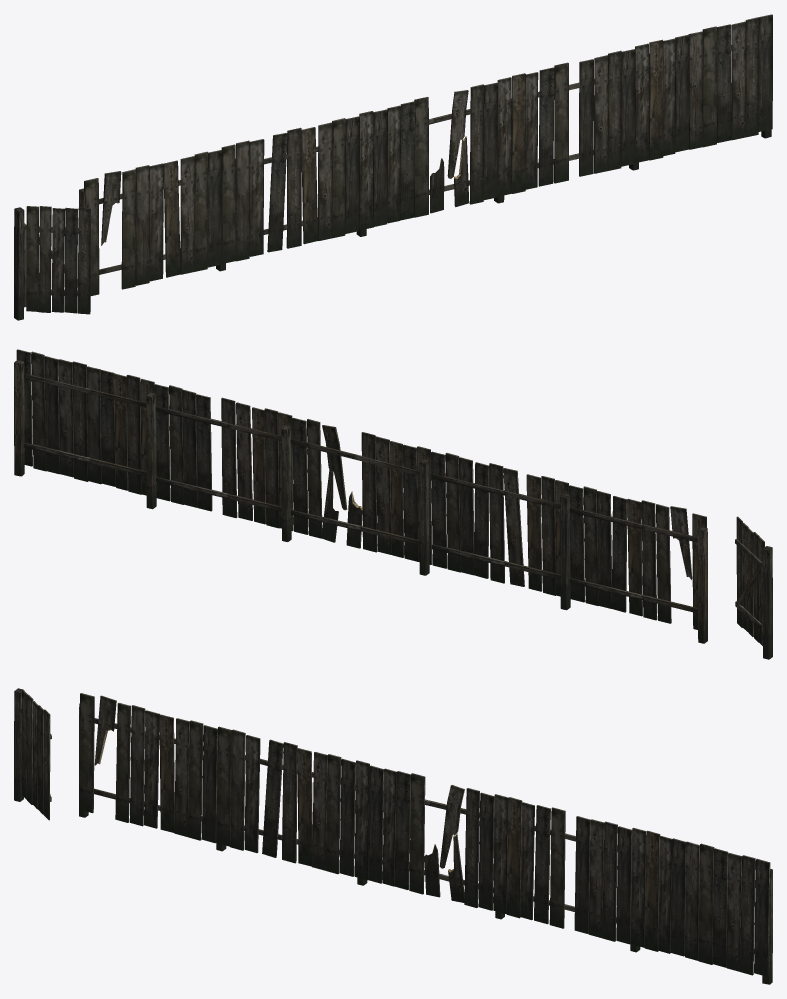
The model's file is Hi_wood_fence.FBX.
3 renders of one model, top to bottom at view 1: azimuth 30°, elevation 25°; view 2: azimuth 150°, elevation 25°; view 3: azimuth 330°, elevation 25°, orthographic.
Parts seen in each view (by area): view 1: Hi_wood_fence_01, Hi_wood_fence_04, Hi_wood_fence_02, Hi_wood_fence_03, Hi_wood_fence_05, Hi_wood_k, Hi_wood_STOLB; view 2: Hi_wood_fence_01, Hi_wood_fence_04, Hi_wood_fence_02, Hi_wood_fence_05, Hi_wood_fence_03, Hi_wood_k, Hi_wood_STOLB; view 3: Hi_wood_fence_01, Hi_wood_fence_04, Hi_wood_fence_02, Hi_wood_fence_05, Hi_wood_fence_03, Hi_wood_k, Hi_wood_STOLB.
Boxes of the visible parts, x1,y1,x2,y2 form: Hi_wood_fence_01: [629, 14, 772, 170]; Hi_wood_fence_04: [216, 116, 359, 271]; Hi_wood_fence_02: [494, 49, 635, 203]; Hi_wood_fence_03: [356, 82, 498, 236]; Hi_wood_fence_05: [79, 150, 221, 295]; Hi_wood_k: [26, 206, 90, 314]; Hi_wood_STOLB: [14, 207, 26, 320]; Hi_wood_fence_01: [14, 349, 156, 509]; Hi_wood_fence_04: [431, 451, 570, 610]; Hi_wood_fence_02: [154, 384, 293, 541]; Hi_wood_fence_05: [569, 485, 707, 643]; Hi_wood_fence_03: [290, 418, 432, 575]; Hi_wood_k: [735, 516, 764, 645]; Hi_wood_STOLB: [761, 546, 772, 659]; Hi_wood_fence_01: [630, 828, 772, 984]; Hi_wood_fence_04: [216, 726, 355, 876]; Hi_wood_fence_02: [493, 794, 632, 944]; Hi_wood_fence_05: [79, 693, 217, 843]; Hi_wood_fence_03: [354, 760, 494, 910]; Hi_wood_k: [22, 690, 51, 820]; Hi_wood_STOLB: [14, 688, 24, 801].
Bounding box in the file's own units: 16.44 × 2.62 × 0.874.
